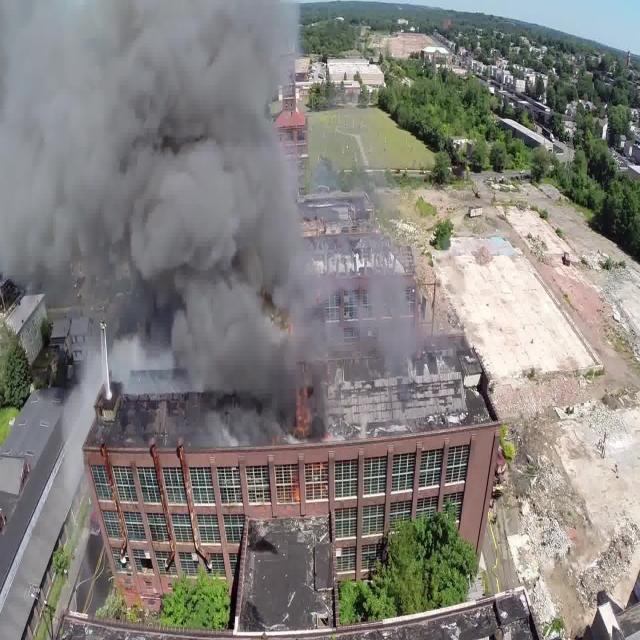Smoke: (0, 0, 417, 455)
